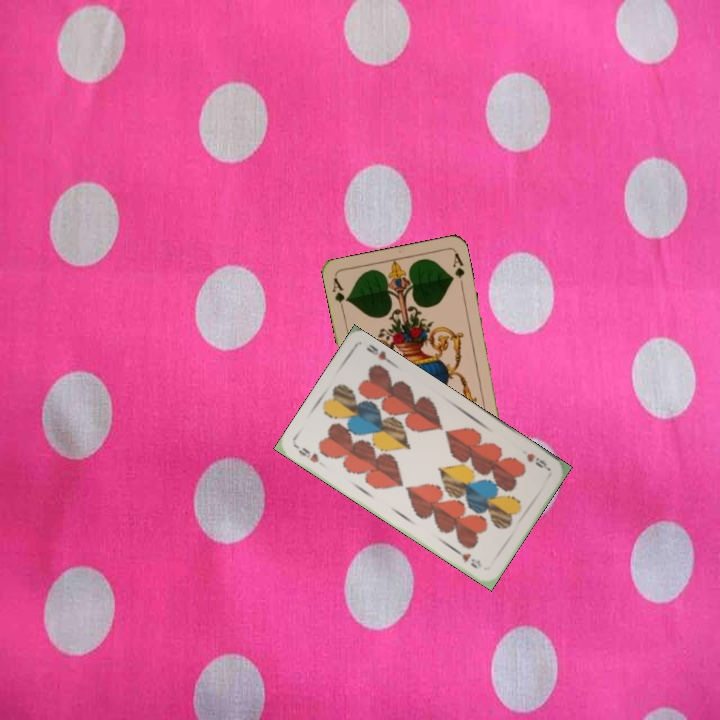GA: (328, 274, 351, 314)
H9: (523, 449, 552, 473), (292, 442, 321, 465)
